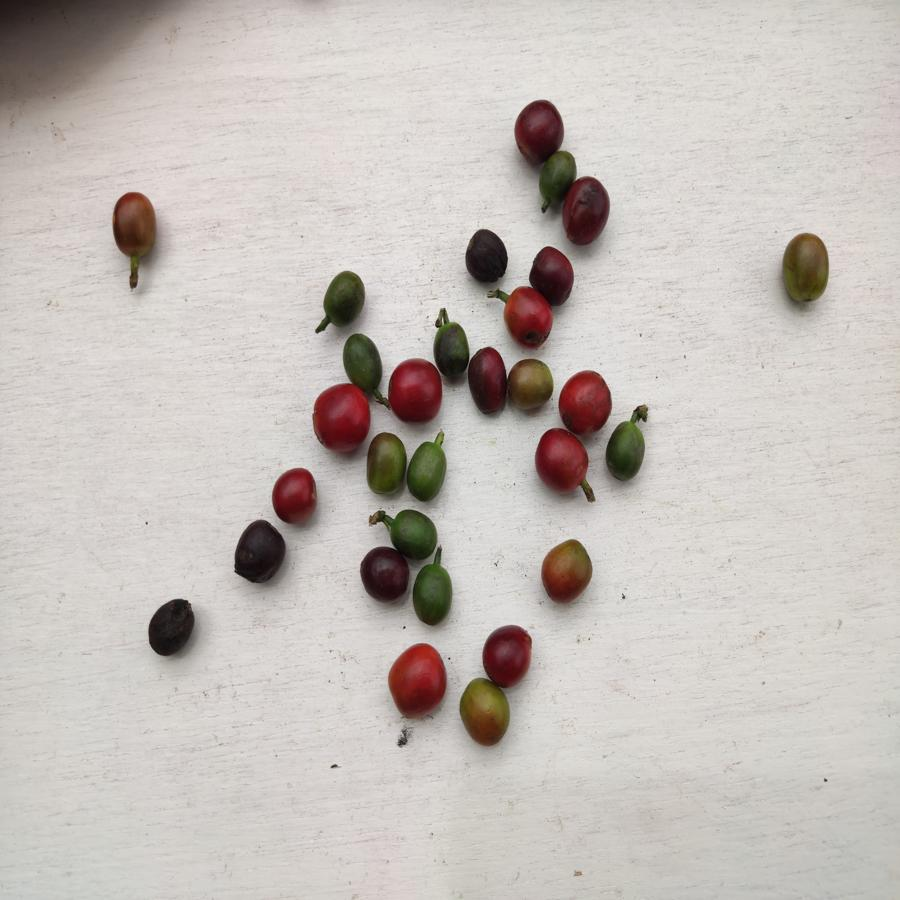Inmaduro: (322, 268, 370, 331), (411, 561, 456, 627), (603, 420, 645, 483), (386, 510, 438, 559), (407, 441, 447, 504), (434, 322, 470, 377), (343, 334, 385, 380), (540, 150, 574, 201)
Maduro: (389, 641, 448, 720), (310, 385, 369, 454), (533, 428, 590, 495), (555, 367, 611, 434), (386, 358, 441, 425), (499, 287, 553, 347), (268, 468, 319, 523)
Pinton: (459, 677, 512, 748), (107, 194, 162, 259), (781, 233, 829, 305), (542, 538, 594, 604), (507, 354, 553, 419), (366, 434, 406, 495)
Sobremaduro: (231, 520, 287, 583), (564, 177, 613, 248), (479, 624, 537, 683), (144, 598, 195, 657), (360, 546, 410, 602), (515, 97, 564, 153), (529, 245, 573, 304), (461, 226, 509, 280), (469, 345, 506, 414)
